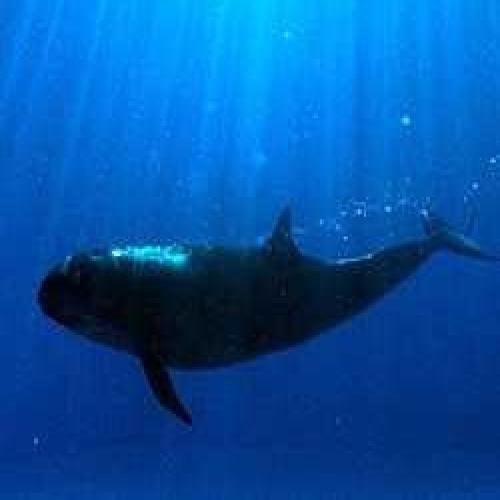killer_whale-endangered: (30, 198, 479, 381)
